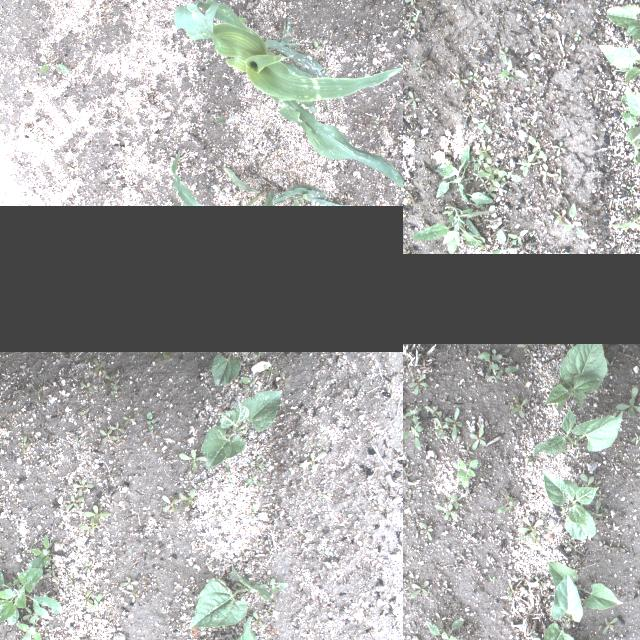crop: (173, 0, 403, 205), (200, 390, 282, 470), (186, 566, 268, 638), (222, 168, 351, 206), (546, 344, 606, 420), (534, 407, 622, 457), (541, 471, 597, 541), (546, 562, 622, 610), (540, 573, 583, 640), (185, 617, 281, 640), (170, 150, 204, 206), (597, 44, 640, 85), (611, 189, 640, 249), (604, 0, 640, 43), (622, 87, 640, 166), (210, 352, 242, 388), (171, 202, 179, 205)
weed: (0, 559, 60, 627), (409, 206, 486, 254), (435, 145, 491, 205), (424, 616, 467, 640), (611, 383, 640, 418), (562, 202, 588, 238), (452, 454, 478, 486), (442, 404, 462, 442), (482, 361, 516, 383), (177, 447, 203, 475), (516, 514, 546, 538), (496, 59, 528, 81), (490, 228, 516, 254), (80, 500, 110, 522), (30, 534, 50, 566), (403, 424, 424, 453), (258, 577, 288, 597), (430, 504, 460, 524), (404, 372, 428, 396), (508, 390, 530, 416), (298, 450, 326, 470), (39, 55, 69, 73), (177, 488, 199, 512), (70, 477, 94, 498), (468, 422, 486, 450), (56, 494, 84, 511), (16, 623, 44, 640), (476, 347, 504, 363), (236, 374, 258, 394), (410, 578, 430, 600), (82, 356, 106, 374), (464, 154, 490, 170), (160, 494, 180, 514), (30, 384, 48, 406), (476, 165, 500, 181), (100, 368, 120, 387), (78, 520, 100, 536), (403, 406, 422, 424), (15, 434, 32, 454), (471, 118, 492, 134), (72, 379, 96, 393), (85, 594, 103, 612), (497, 492, 515, 510), (507, 230, 527, 246), (76, 588, 92, 608), (598, 616, 618, 632), (418, 522, 434, 542), (496, 170, 522, 182), (528, 135, 542, 157), (476, 142, 490, 164), (143, 409, 157, 431), (451, 72, 469, 88), (522, 153, 534, 177), (250, 610, 268, 626), (426, 405, 442, 423), (148, 352, 176, 362), (276, 368, 290, 388), (224, 462, 236, 484), (44, 563, 60, 579), (610, 543, 626, 559), (538, 163, 550, 183), (263, 361, 275, 381), (118, 577, 138, 589), (574, 474, 598, 484), (406, 91, 419, 109), (98, 428, 114, 442), (593, 495, 601, 523), (434, 422, 444, 444), (106, 422, 124, 434), (506, 580, 518, 598), (480, 95, 496, 108), (624, 431, 640, 444), (214, 115, 236, 124), (24, 610, 38, 624), (293, 194, 309, 206), (551, 141, 563, 157), (552, 209, 564, 225), (483, 574, 499, 586), (243, 475, 261, 485), (520, 118, 534, 130), (75, 406, 89, 418), (529, 536, 541, 550), (518, 347, 532, 359), (499, 48, 509, 64), (246, 504, 256, 520), (522, 452, 532, 468), (438, 582, 454, 592), (81, 559, 92, 573), (492, 177, 504, 189), (122, 414, 134, 426), (597, 542, 609, 554), (439, 394, 451, 406), (255, 462, 268, 473), (71, 433, 81, 447), (249, 352, 263, 362), (403, 461, 409, 484), (316, 489, 329, 499), (106, 390, 122, 398), (128, 588, 136, 604), (412, 8, 421, 22), (413, 61, 425, 71), (484, 186, 494, 198), (371, 500, 381, 512), (150, 430, 162, 440), (262, 606, 274, 616), (110, 435, 122, 445), (448, 494, 458, 506), (610, 356, 620, 368), (625, 186, 635, 197), (403, 18, 415, 27), (554, 170, 562, 183), (312, 40, 322, 50), (208, 506, 218, 516), (523, 486, 533, 496), (474, 60, 481, 74), (572, 28, 580, 40), (264, 548, 276, 556), (632, 458, 640, 470), (468, 71, 477, 81), (406, 193, 414, 204), (225, 503, 232, 515), (479, 178, 487, 188), (427, 108, 437, 116), (462, 101, 470, 111), (423, 134, 433, 142), (66, 578, 76, 586), (394, 620, 402, 630), (249, 456, 259, 464), (403, 0, 417, 5), (462, 177, 473, 183), (562, 59, 570, 67), (528, 230, 536, 238), (300, 530, 308, 538), (8, 578, 16, 586), (368, 502, 374, 512), (0, 417, 6, 426), (34, 136, 40, 144), (416, 148, 424, 154), (0, 439, 5, 448), (198, 479, 204, 486), (112, 378, 116, 388), (636, 38, 640, 47), (0, 550, 3, 561), (93, 636, 99, 640), (95, 126, 98, 132), (403, 250, 408, 253)
